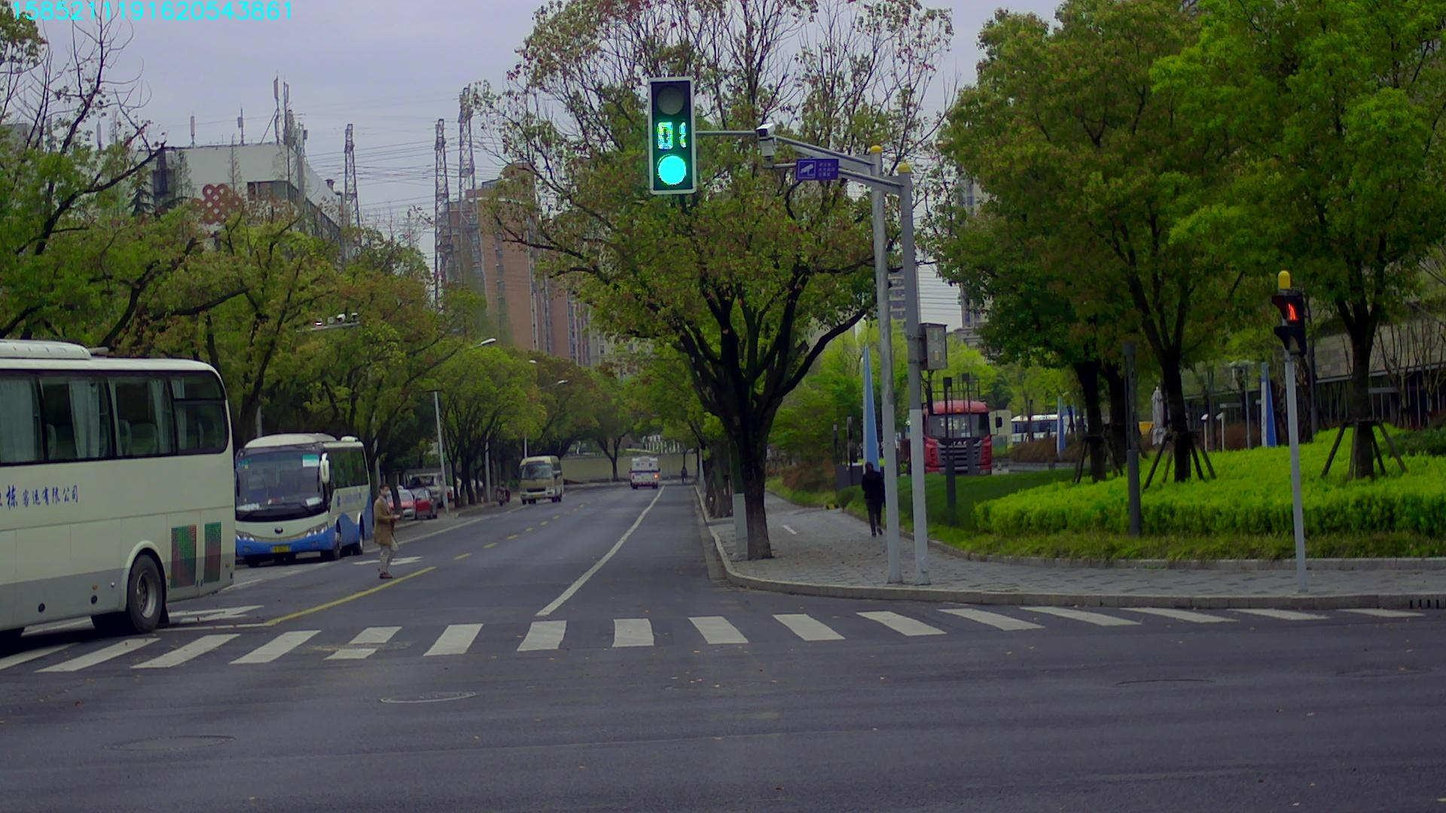green: (650, 79, 693, 192)
